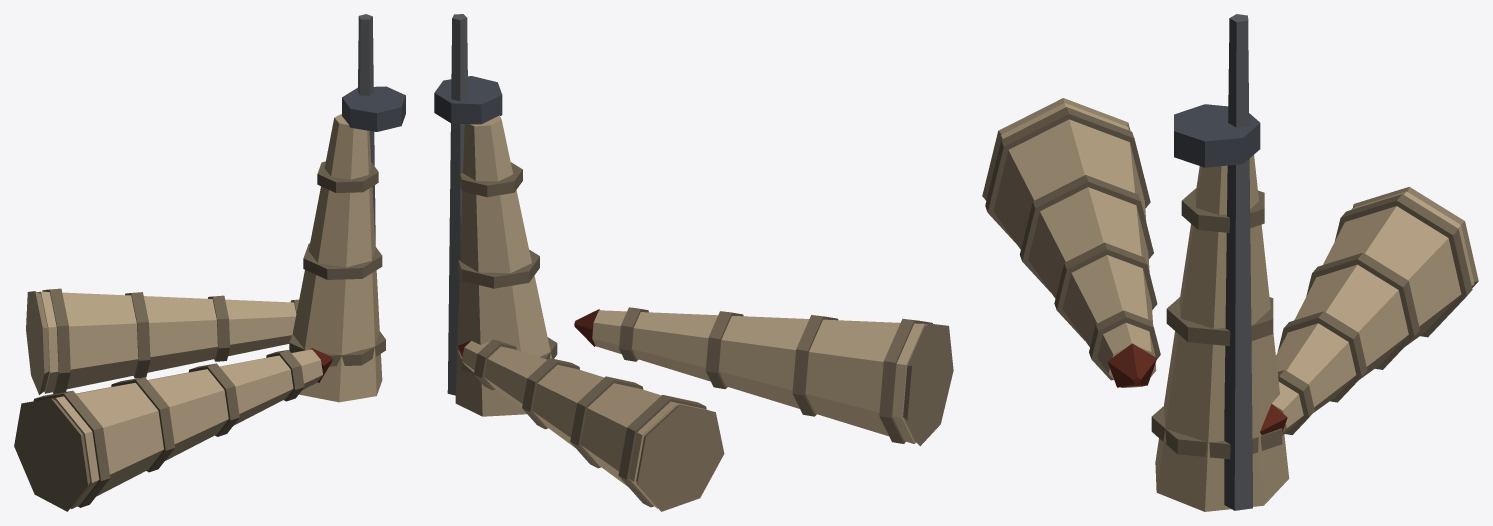
Rendered from eel_traps.glb.
3 renders of one model, left to right at view 1: azimuth 30°, elevation 25°; view 2: azimuth 150°, elevation 25°; view 3: azimuth 270°, elevation 25°, orthographic. The views are drawn at different scales.
Parts seen in each view (by area): view 1: driftwood_d12, driftwood_d45, driftwood_d32, slate_d35, silverfog_d55; view 2: driftwood_d12, driftwood_d45, driftwood_d32, silverfog_d55, slate_d35; view 3: driftwood_d12, driftwood_d45, silverfog_d55, slate_d35, coal_d50, driftwood_d32.
Part boxes in pixels (box(x1,y1,x2,y2)): driftwood_d12: box(37, 114, 382, 508); driftwood_d45: box(33, 161, 385, 507); driftwood_d32: box(14, 291, 90, 511); slate_d35: box(342, 86, 405, 131); silverfog_d55: box(358, 14, 375, 245); driftwood_d12: box(455, 115, 928, 508); driftwood_d45: box(456, 162, 932, 507); driftwood_d32: box(636, 323, 953, 511); silverfog_d55: box(447, 14, 468, 395); slate_d35: box(434, 76, 502, 124); driftwood_d12: box(985, 103, 1474, 511); driftwood_d45: box(985, 107, 1472, 459); silverfog_d55: box(1224, 14, 1252, 510); slate_d35: box(1174, 104, 1260, 167); coal_d50: box(1107, 343, 1287, 434); driftwood_d32: box(982, 98, 1478, 287).
Size of the model in its own units: 1.6 by 1.31 by 1.2.
